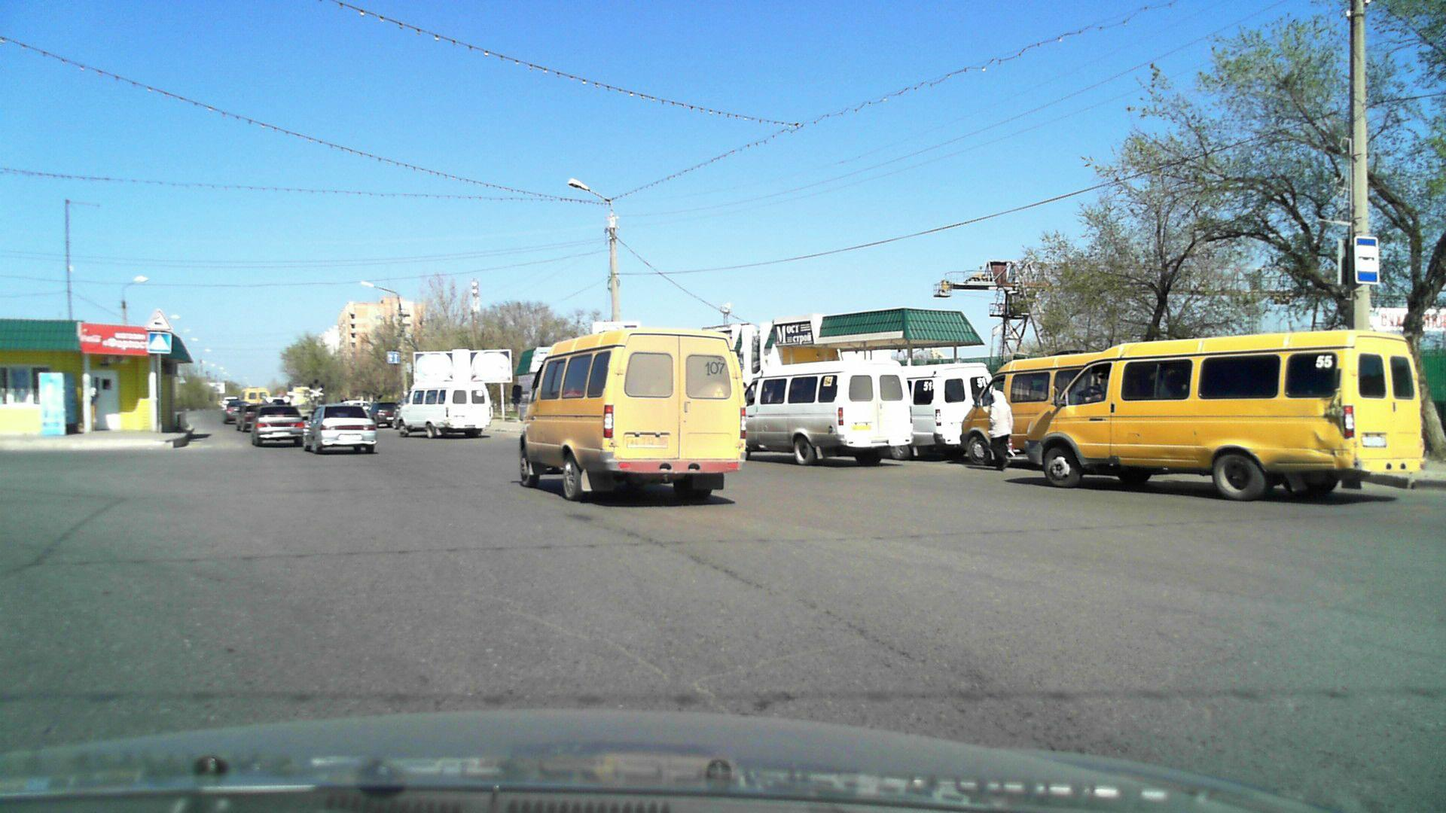road_sign: (1354, 236, 1379, 283), (148, 332, 171, 354)
